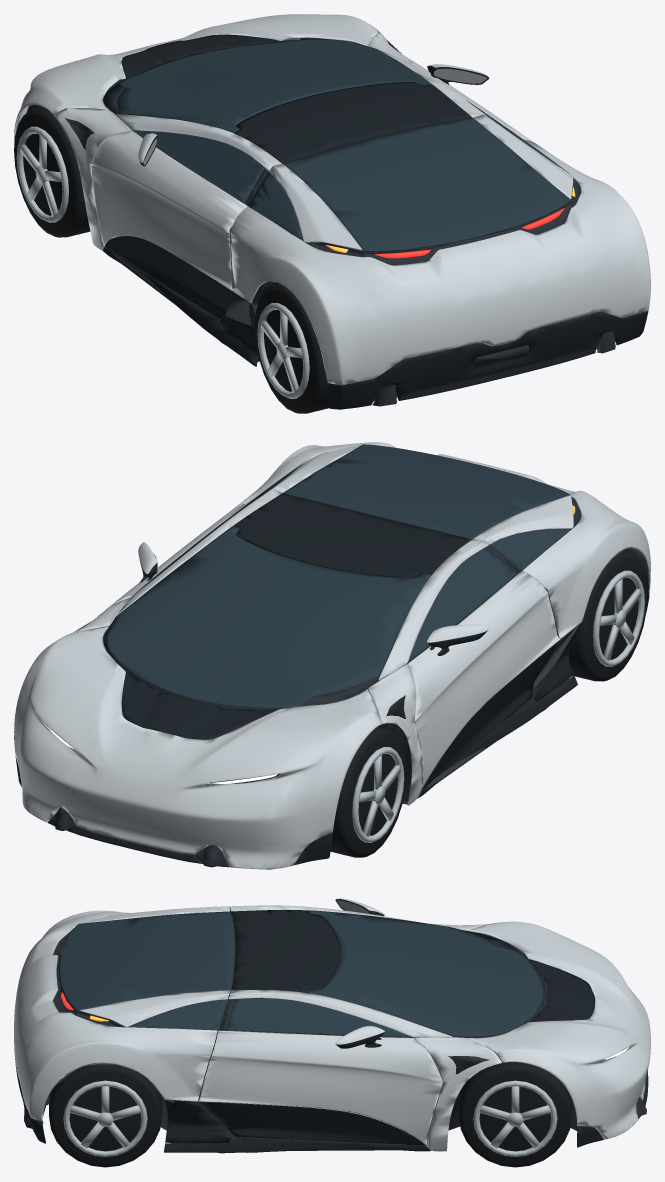
The model's file is concept-v11-hero.glb.
3 views of the same model, one above another, from view 1: azimuth 30°, elevation 25°; view 2: azimuth 150°, elevation 25°; view 3: azimuth 270°, elevation 25° (orthographic). The views are drawn at different scales.
Visible parts, largest first — view 1: Paint, Glass.001, Carbon, Trim, Rubber, Rubber.001, Metal.002, Metal.001, Interior, Metal; view 2: Paint, Glass.001, Carbon, Rubber, Rubber.001, Trim, Metal.002, Metal.001, Interior; view 3: Paint, Glass.001, Carbon, Rubber.002, Rubber.003, Metal.003, Metal.004, Trim, Interior.
Boxes of the visible parts, <box> form: Paint: <box>14,14,650,385</box>; Glass.001: <box>117,39,570,251</box>; Carbon: <box>103,34,648,409</box>; Trim: <box>27,39,615,406</box>; Rubber: <box>14,106,90,237</box>; Rubber.001: <box>254,283,328,413</box>; Metal.002: <box>257,303,309,398</box>; Metal.001: <box>16,126,68,222</box>; Interior: <box>26,36,615,402</box>; Metal: <box>143,68,487,164</box>; Paint: <box>14,442,650,869</box>; Glass.001: <box>106,444,570,708</box>; Carbon: <box>15,493,649,865</box>; Rubber: <box>330,726,406,857</box>; Rubber.001: <box>568,551,647,681</box>; Trim: <box>48,494,649,869</box>; Metal.002: <box>592,570,644,666</box>; Metal.001: <box>352,747,404,842</box>; Interior: <box>64,495,649,862</box>; Paint: <box>14,898,650,1151</box>; Glass.001: <box>59,910,542,1036</box>; Carbon: <box>14,899,648,1153</box>; Rubber.002: <box>459,1061,571,1167</box>; Rubber.003: <box>49,1064,161,1167</box>; Metal.003: <box>473,1080,557,1156</box>; Metal.004: <box>63,1080,147,1156</box>; Trim: <box>24,908,646,1130</box>; Interior: <box>26,908,645,1150</box>.
Bounding box in the file's own units: 2.12 × 1.04 × 3.95.
